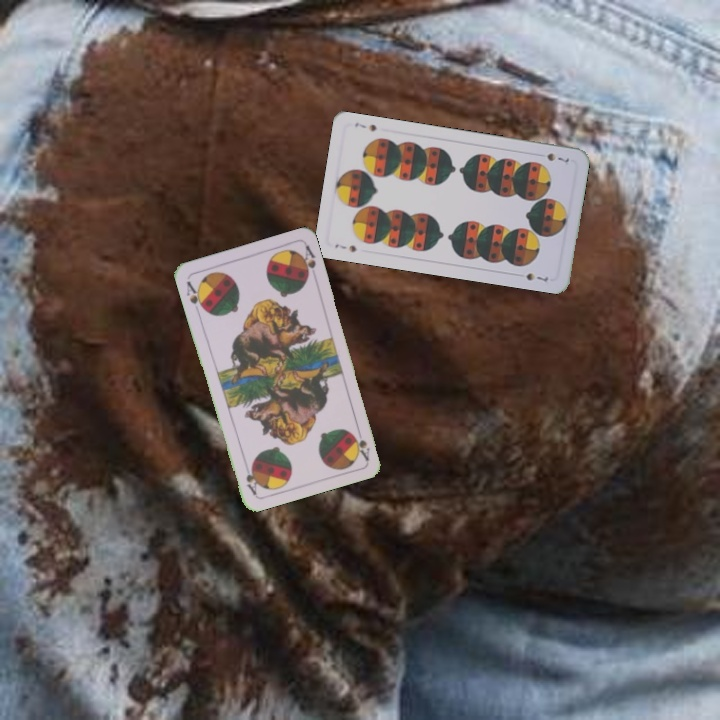S7: (543, 149, 572, 165), (331, 240, 360, 255)
SA: (182, 277, 208, 314), (350, 423, 372, 462)
